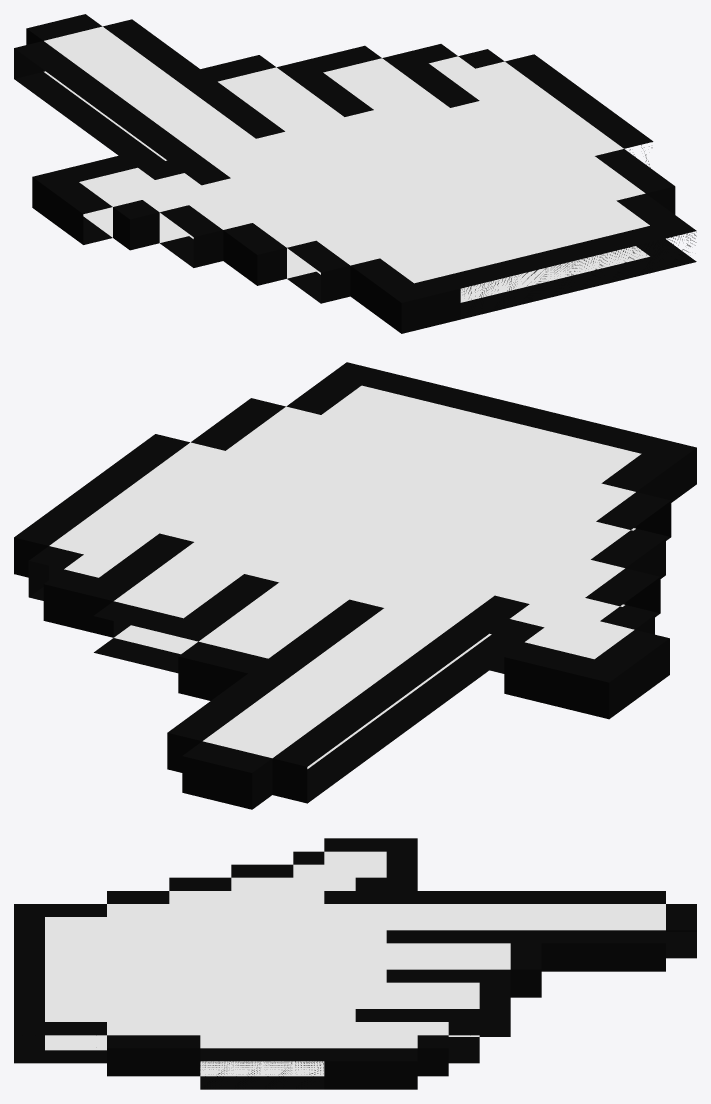
Rendered from hand.obj.
3 views of the same model, one above another, from view 1: azimuth 30°, elevation 25°; view 2: azimuth 150°, elevation 25°; view 3: azimuth 270°, elevation 25° (orthographic). The views are drawn at different scales.
Parts seen in each view (by area): view 1: Plane; view 2: Plane; view 3: Plane.
Boxes of the visible parts, left/top/right/bottom form: Plane: left=14, top=14, right=696, bottom=333; Plane: left=14, top=362, right=696, bottom=809; Plane: left=14, top=838, right=696, bottom=1089.
Size of the model in its own units: 1.55 by 0.091 by 2.
1 material, 1 textured.
